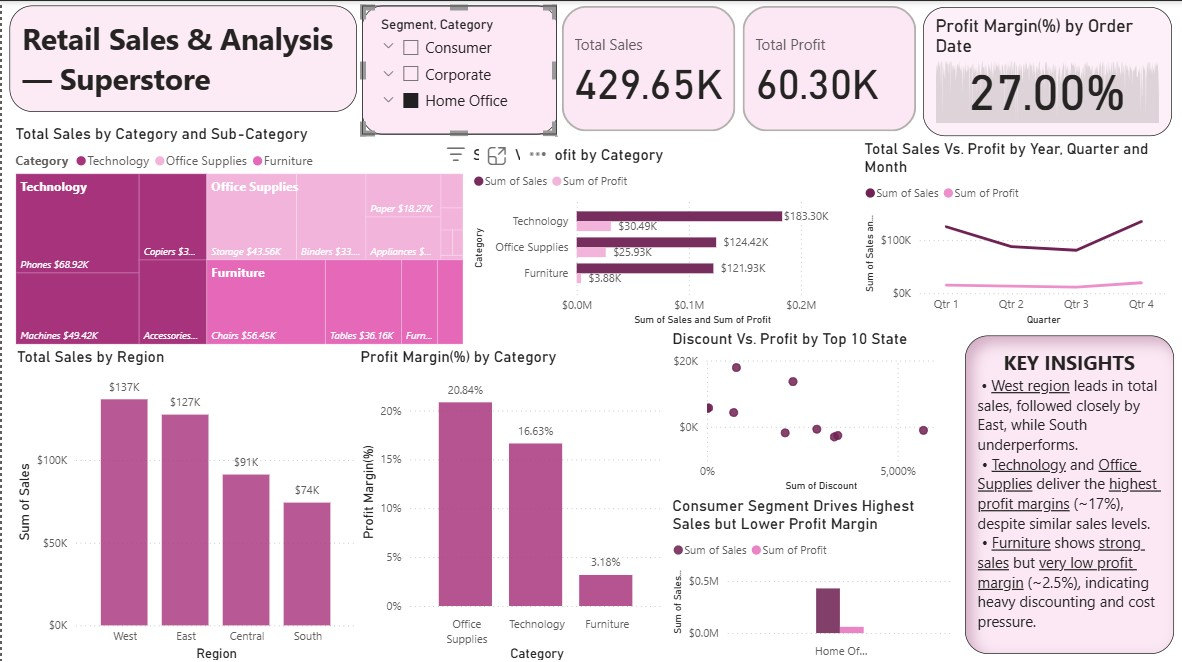

Layout of this report page (visuals, bound fields, positions):
{"tool":"powerbi","page":{"name":"Page 1","canvas":[1280,720],"ordinal":0},"visuals":[{"type":"treemap","title":"Total Sales by Category and Sub-Category","fields":{"Group":["Sample_ Superstore.Category"],"Values":["Sum(Sample_ Superstore.Sales)"],"Details":["Sample_ Superstore.Sub-Category"]},"box":[10,133.3,495,243.3],"z":0},{"type":"clusteredBarChart","title":"Sales Vs. Profit by Category","fields":{"Category":["Sample_ Superstore.Category"],"Y":["Sum(Sample_ Superstore.Sales)","Sum(Sample_ Superstore.Profit)"]},"box":[506,156,412,200],"z":1000},{"type":"columnChart","title":"Total Sales by Region","fields":{"Category":["Sample_ Superstore.Region"],"Y":["Sum(Sample_ Superstore.Sales)"]},"box":[12,376,378,344],"z":2000},{"type":"lineChart","title":"Total Sales Vs. Profit by Year, Quarter and Month","fields":{"Category":["Sample_ Superstore.Order Date.Variation.Date Hierarchy.Year","Sample_ Superstore.Order Date.Variation.Date Hierarchy.Quarter","Sample_ Superstore.Order Date.Variation.Date Hierarchy.Month","Sample_ Superstore.Order Date.Variation.Date Hierarchy.Day"],"Y":["Sum(Sample_ Superstore.Sales)","Sum(Sample_ Superstore.Profit)"]},"box":[930,150,338,206],"z":3000},{"type":"clusteredColumnChart","title":"Consumer Segment Drives Highest Sales but Lower Profit Margin","fields":{"Category":["Sample_ Superstore.Segment"],"Y":["Sum(Sample_ Superstore.Sales)","Sum(Sample_ Superstore.Profit)"]},"box":[721.7,536.7,315,183.3],"z":4000},{"type":"scatterChart","title":"Discount Vs. Profit by Top 10 State","fields":{"Category":["Sample_ Superstore.State"],"X":["Sum(Sample_ Superstore.Discount)"],"Y":["Sum(Sample_ Superstore.Profit)"]},"box":[721.7,356.7,315,180],"z":5000},{"type":"slicer","fields":{"Values":["Sample_ Superstore.Segment","Sample_ Superstore.Category"]},"box":[390,5,211.7,140],"z":6000},{"type":"textbox","box":[8.3,5,376.7,115],"z":7000},{"type":"kpi","fields":{"Indicator":["Sample_Superstore.Profit Margin %"],"TrendLine":["Sample_Superstore.Order Date"]},"box":[998,6,270,140],"z":8000},{"type":"cardVisual","fields":{"Data":["Sample_Superstore.Total Sales","Sample_Superstore.Total Profit"]},"box":[602,0,394,146],"z":9000},{"type":"clusteredColumnChart","fields":{"Y":["Sample_Superstore.Profit Margin(%)"],"Category":["Sample_Superstore.Category"]},"box":[384,376,338,344],"z":10000},{"type":"textbox","box":[1045,363.3,226.7,345],"z":11000}]}

Visuals, with their boxes in screenshot pixels (x1, y1, x2, y2), scaled from the page's 1280x720 canvas onto the 1182x662 screenshot:
"Total Sales by Category and Sub-Category" treemap: 9/123/466/346
"Sales Vs. Profit by Category" clusteredBarChart: 467/143/848/327
"Total Sales by Region" columnChart: 11/346/360/661
"Total Sales Vs. Profit by Year, Quarter and Month" lineChart: 859/138/1171/327
"Consumer Segment Drives Highest Sales but Lower Profit Margin" clusteredColumnChart: 666/493/957/661
"Discount Vs. Profit by Top 10 State" scatterChart: 666/328/957/493
slicer - Sample_ Superstore.Segment x Sample_ Superstore.Category: 360/5/556/133
textbox: 8/5/356/110
kpi - Sample_Superstore.Profit Margin % x Sample_Superstore.Order Date: 922/6/1171/134
cardVisual - Sample_Superstore.Total Sales x Sample_Superstore.Total Profit: 556/0/920/134
clusteredColumnChart - Sample_Superstore.Profit Margin(%) x Sample_Superstore.Category: 355/346/667/661
textbox: 965/334/1174/651
